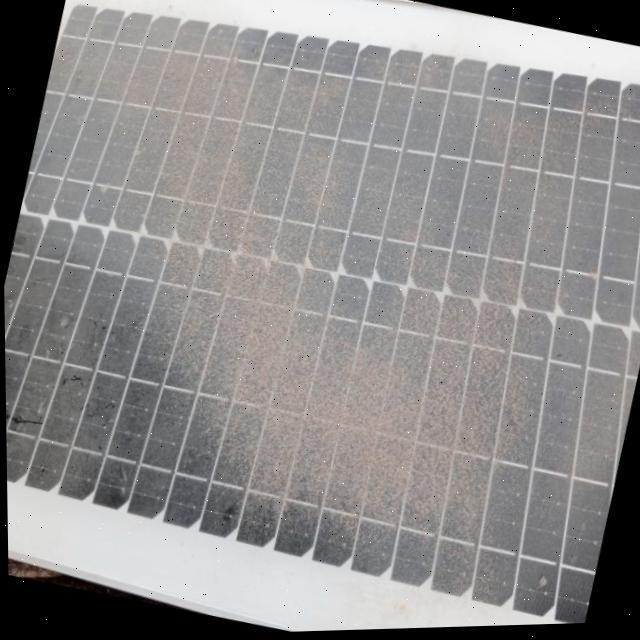Surface Contaminant: (3, 0, 640, 604)
